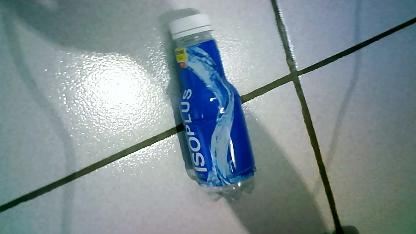Plastic Bottle: (151, 7, 269, 199)
